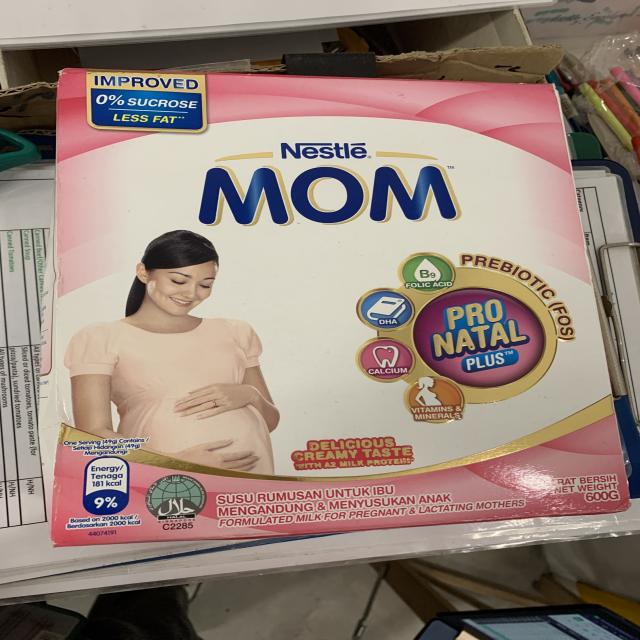object_name: (54, 69, 621, 517)
